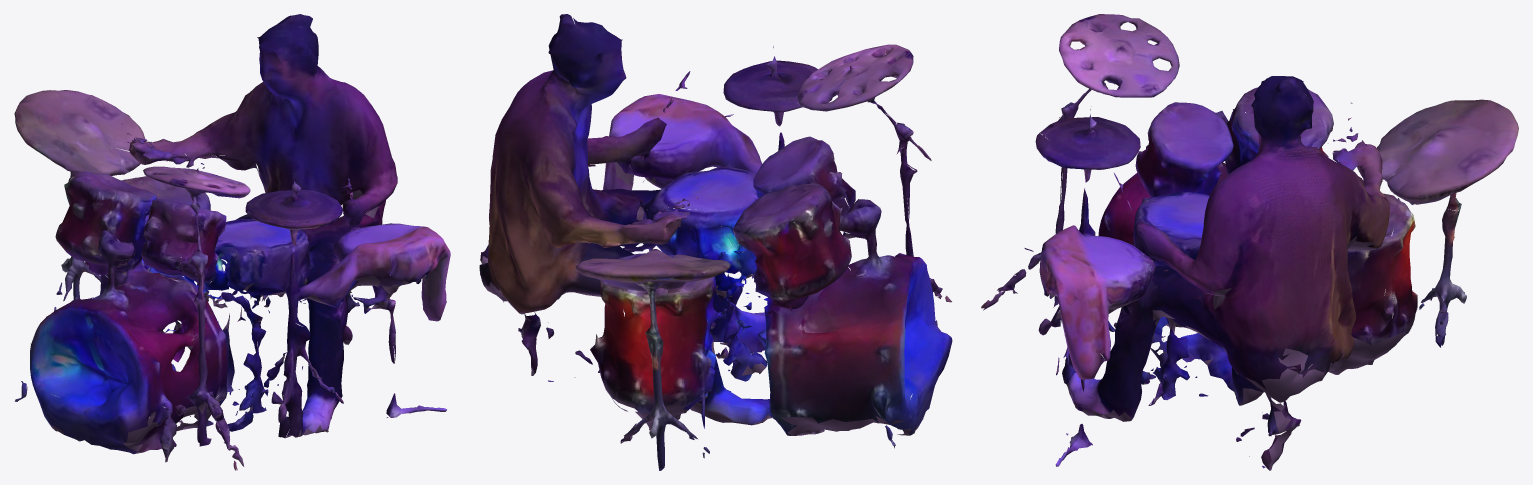
The model's file is fede_opt.glb.
3 renders of one model, left to right at view 1: azimuth 30°, elevation 25°; view 2: azimuth 150°, elevation 25°; view 3: azimuth 270°, elevation 25°, orthographic. The views are drawn at different scales.
Bounding box in the file's own units: 2.55 × 2.27 × 2.96.
Materials: 11 (11 with a texture image).
